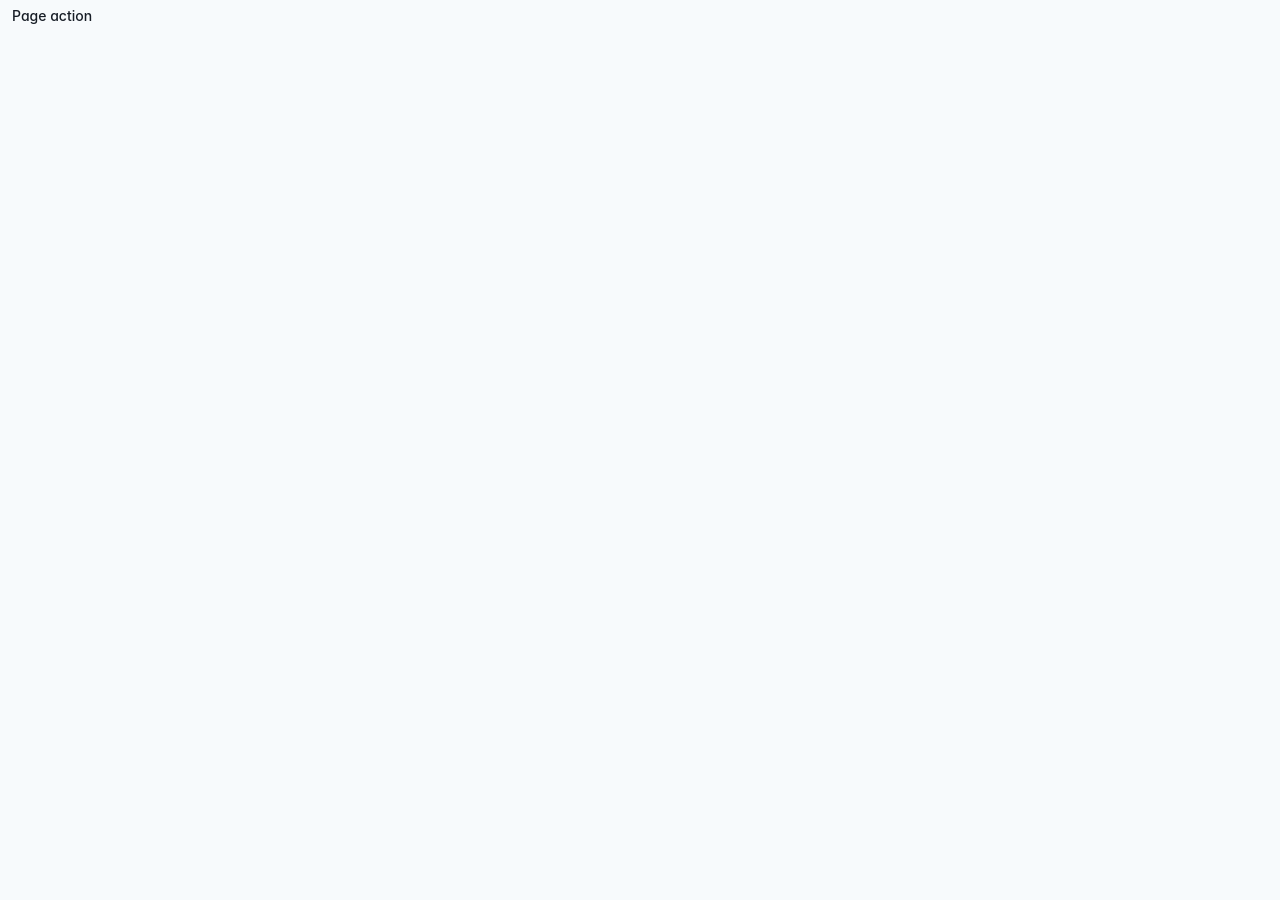
typing a query with no match shows No results
Type keys "{Control>}k{/Control}"
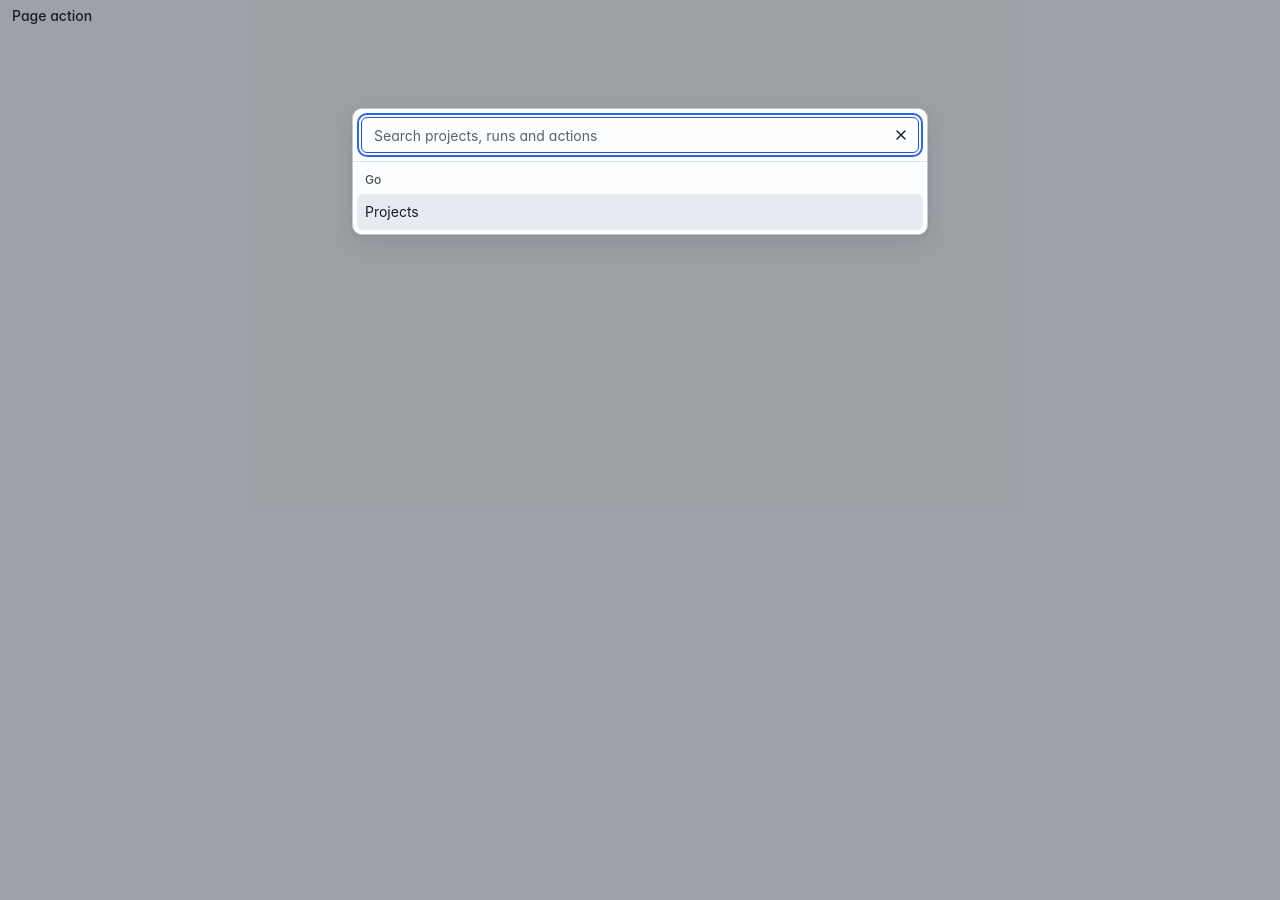
Expected: the dialog named "Command palette" is shown, [352, 108, 928, 235]
Type "zzz" into the dropdown.
click(640, 135); type("zzz")  # box [361, 117, 919, 153]
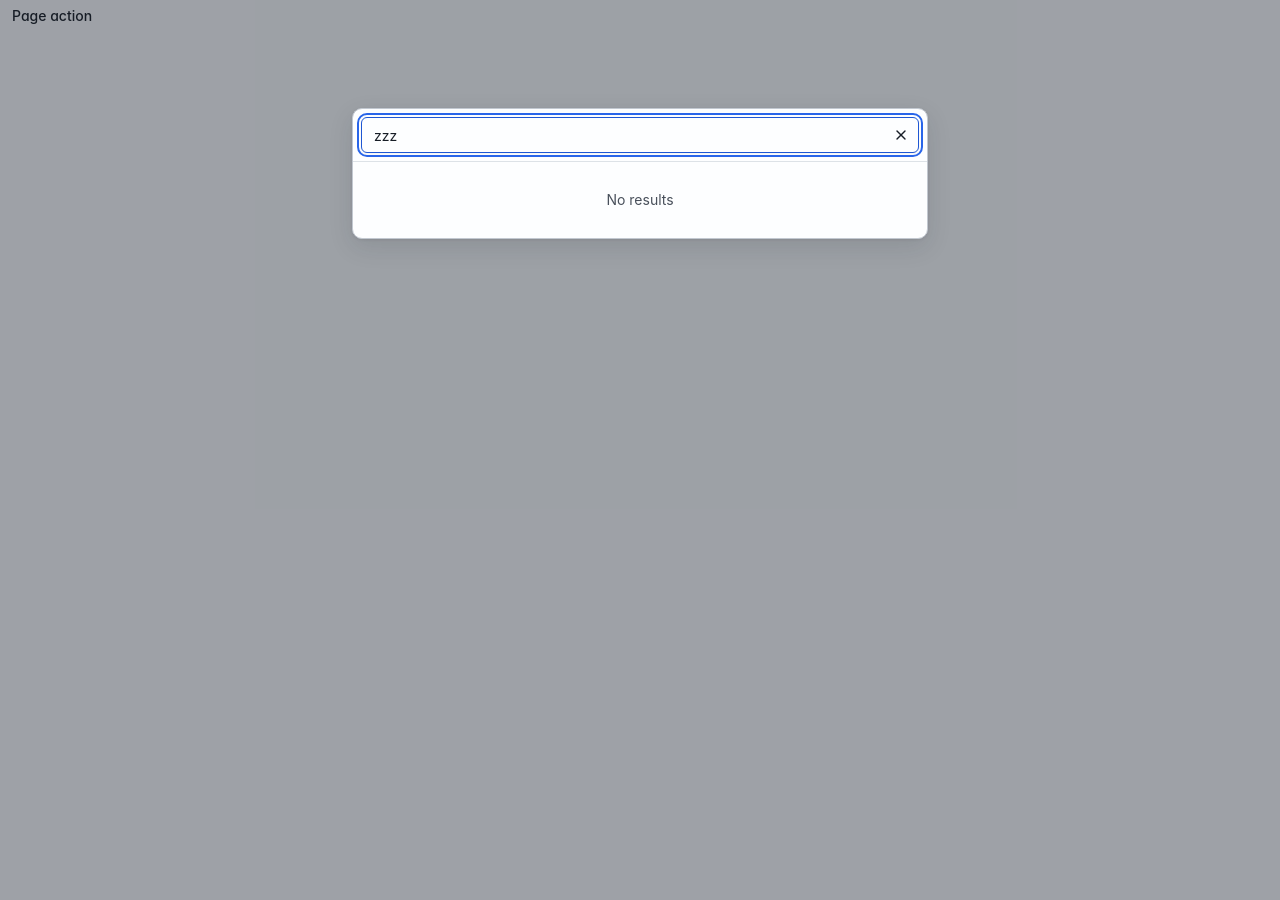
Expected: the text "No results" is shown, [606, 191, 674, 208]
Expected: the option is gone
